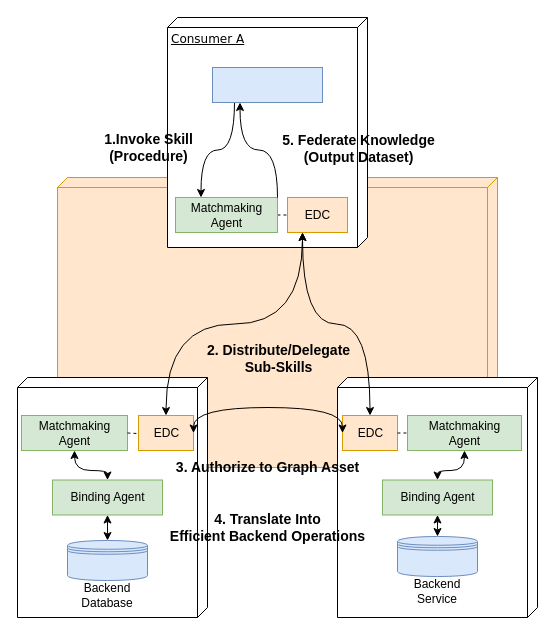
The diagram is 555 pixels wide and 635 high, and some of its shapes have lost their labels. The shapes that lost their labels are listed below. From the top down, each one's box as (x1, y1, x2, y2) in pixels, then its label:
(212, 66, 322, 102): Data Consuming App
(56, 176, 498, 468): Dataspace
(16, 376, 208, 618): Provider B
(336, 376, 538, 618): Provider C
